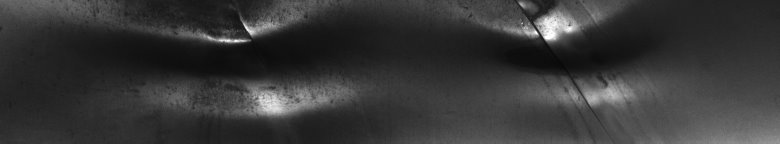ke: (460, 4, 634, 120)
